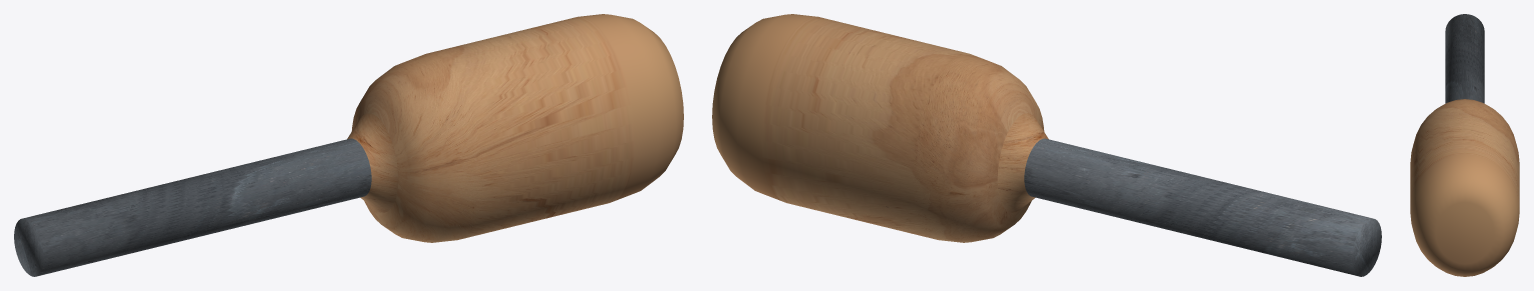
The model's file is PalancaNormalesCorrectas.fbx.
3 views of the same model, side by side, from view 1: azimuth 30°, elevation 25°; view 2: azimuth 150°, elevation 25°; view 3: azimuth 270°, elevation 25° (orthographic). The views are drawn at different scales.
Parts seen in each view (by area): view 1: Palanca; view 2: Palanca; view 3: Palanca.
Part boxes in pixels (x1,y1,x2,y2): Palanca: [14, 14, 683, 276]; Palanca: [712, 14, 1381, 276]; Palanca: [1410, 14, 1519, 276].
Size of the model in its own units: 239 by 63.91 by 54.83.
